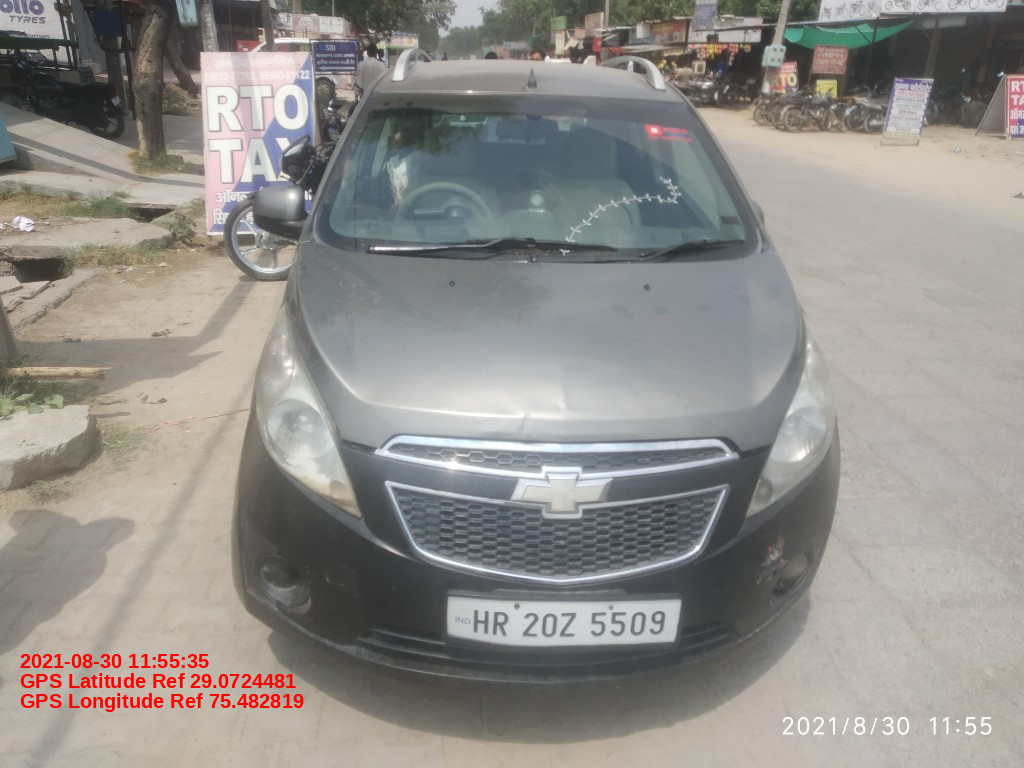Pressed: (504, 374, 579, 436)
Scratched: (754, 527, 794, 587)
